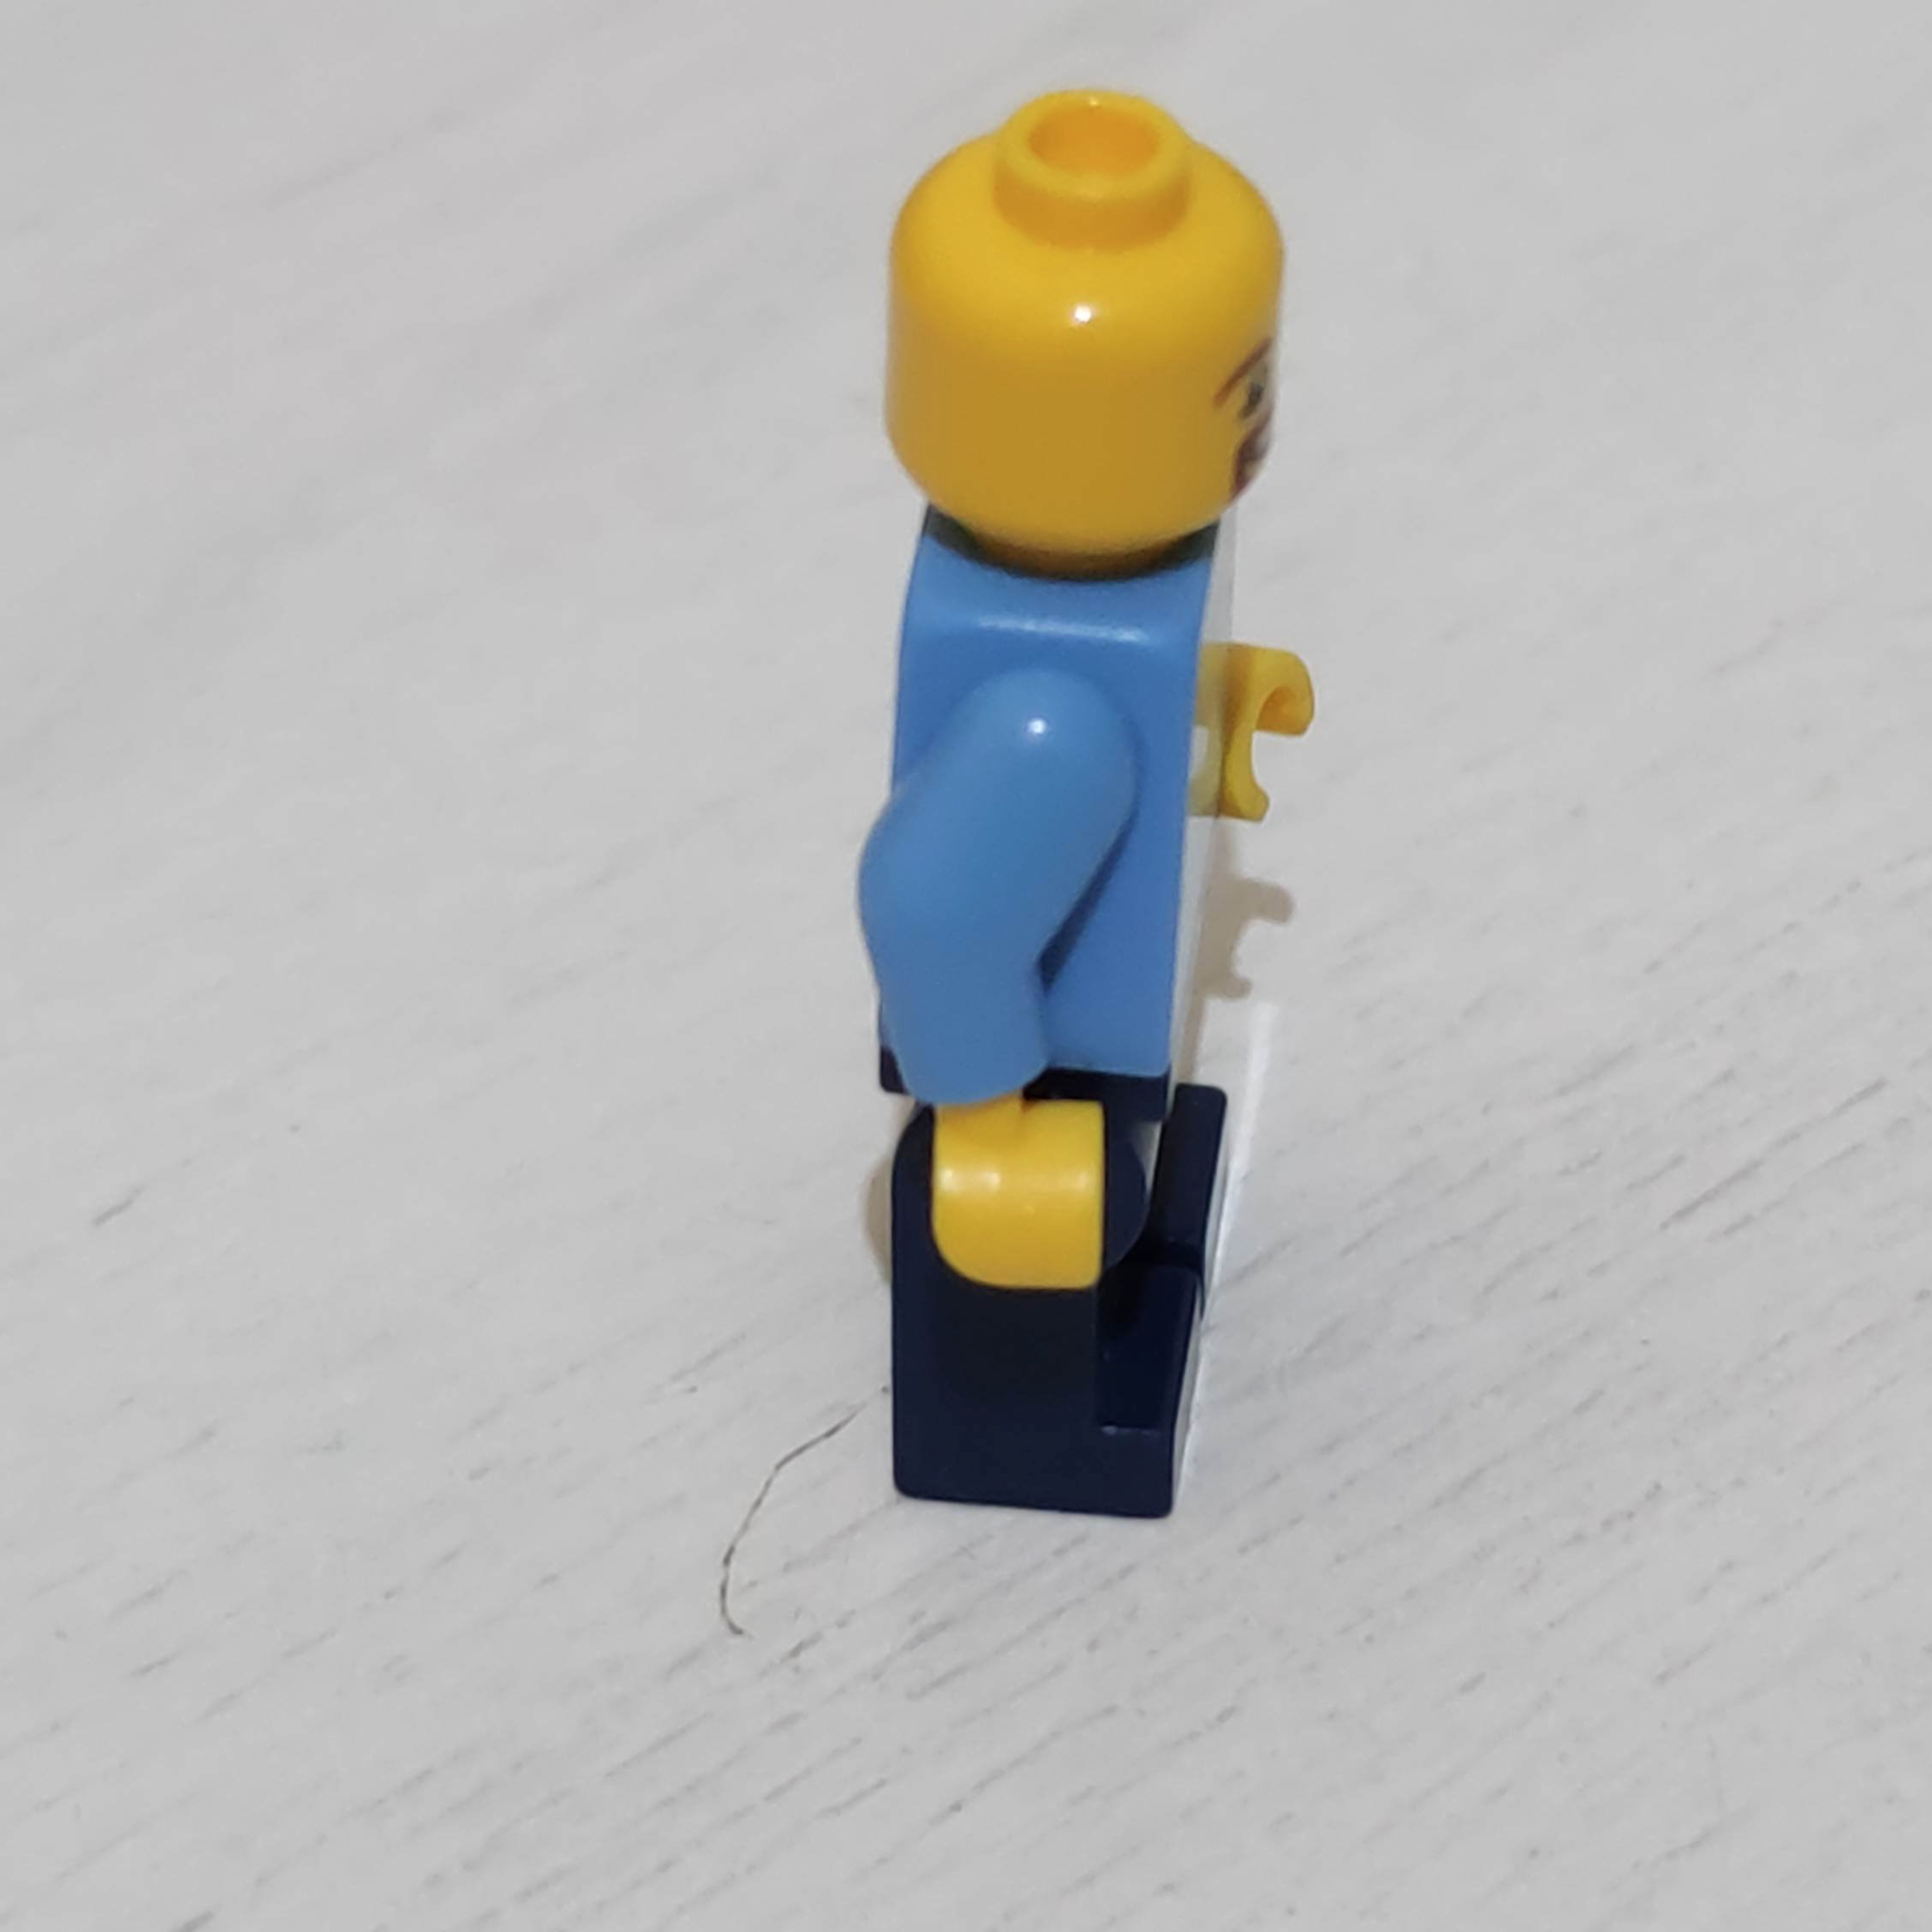lego: (851, 90, 1315, 1518)
